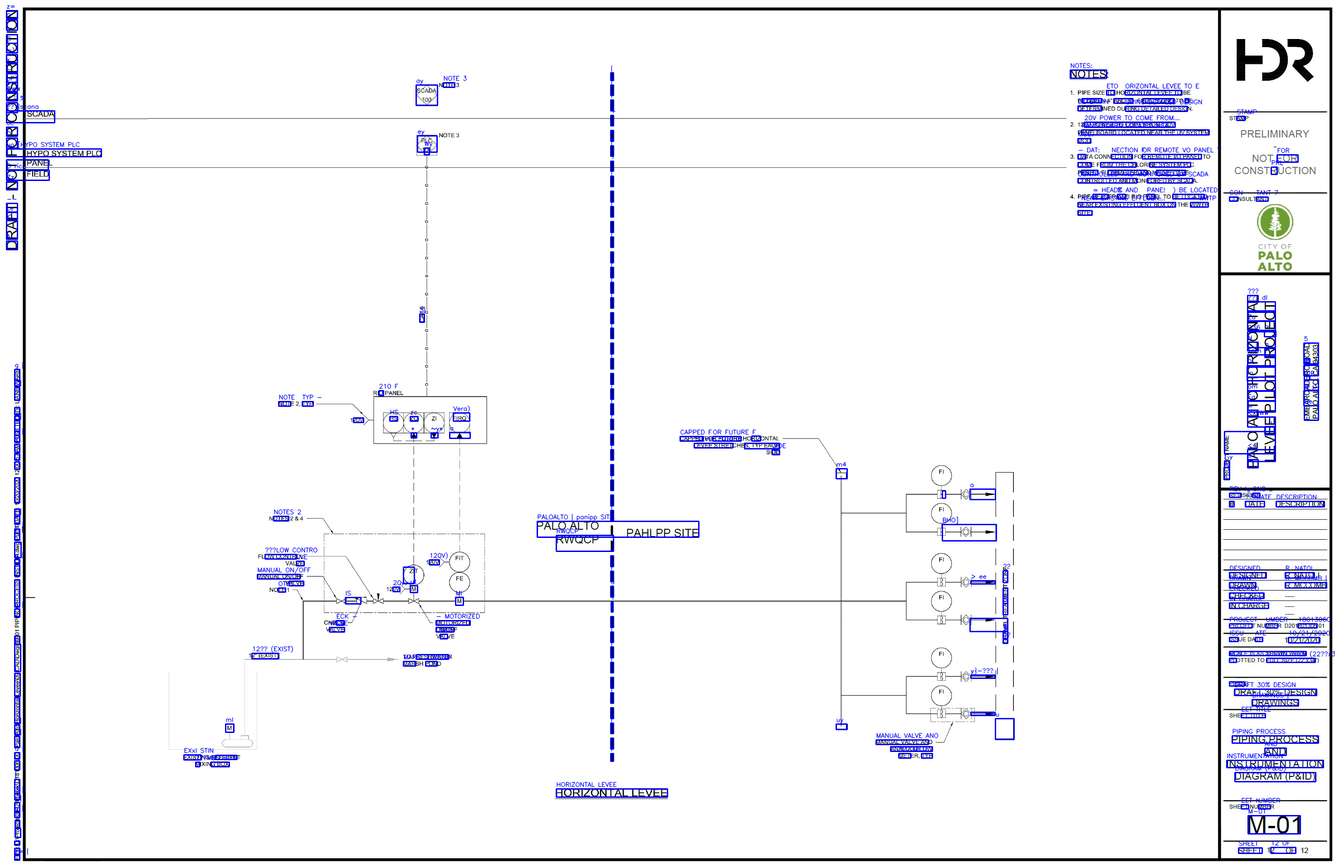Instrumento: (929, 646, 954, 682), (929, 501, 953, 537), (930, 551, 953, 588), (930, 589, 953, 626), (930, 462, 952, 499), (930, 685, 953, 719), (449, 572, 471, 593), (383, 413, 404, 433)
Motor: (454, 596, 465, 607)
Outro: (448, 551, 472, 571), (402, 566, 425, 585), (403, 413, 424, 433), (424, 413, 445, 433), (416, 85, 437, 105), (449, 413, 469, 433), (417, 135, 437, 155), (959, 669, 973, 683), (960, 614, 974, 627), (959, 526, 973, 539), (959, 707, 974, 719), (960, 575, 973, 588), (959, 489, 973, 501)
Válvula: (220, 722, 254, 748), (408, 584, 421, 605), (371, 591, 386, 605), (353, 595, 368, 606), (333, 656, 349, 665), (335, 597, 348, 605)
